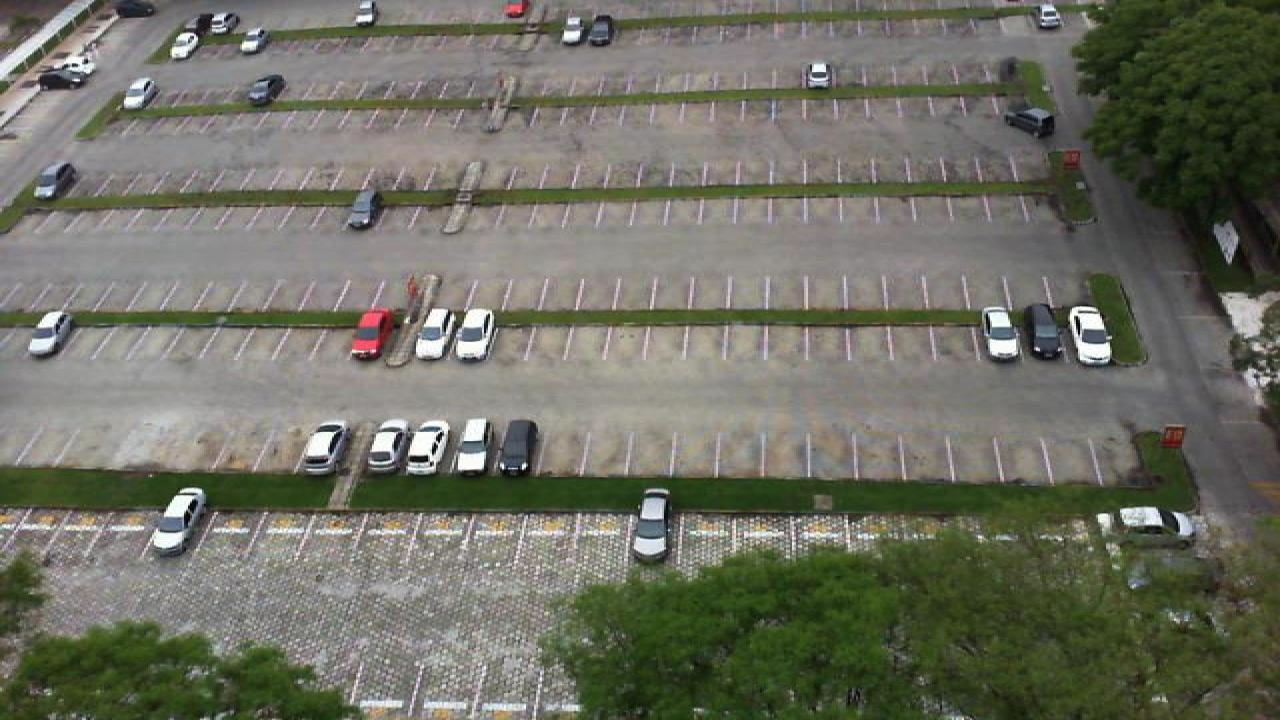Car: (144, 486, 208, 558), (1090, 504, 1194, 546), (628, 487, 674, 564), (1068, 304, 1116, 366), (404, 419, 452, 477), (450, 307, 498, 363), (410, 306, 456, 362), (496, 419, 540, 477), (24, 309, 74, 360), (364, 419, 410, 474), (978, 306, 1022, 363), (300, 422, 348, 474), (1022, 303, 1064, 362), (452, 417, 492, 476), (348, 309, 394, 360), (30, 162, 78, 201), (344, 187, 380, 232), (1004, 106, 1056, 137), (244, 73, 286, 107), (120, 77, 160, 110), (36, 66, 82, 92), (196, 11, 240, 37), (58, 48, 96, 76), (170, 30, 204, 60), (556, 15, 588, 45), (802, 61, 834, 91), (586, 15, 616, 46), (1032, 2, 1064, 31), (238, 28, 270, 55), (114, 0, 158, 18), (352, 0, 380, 27), (500, 0, 528, 20)
